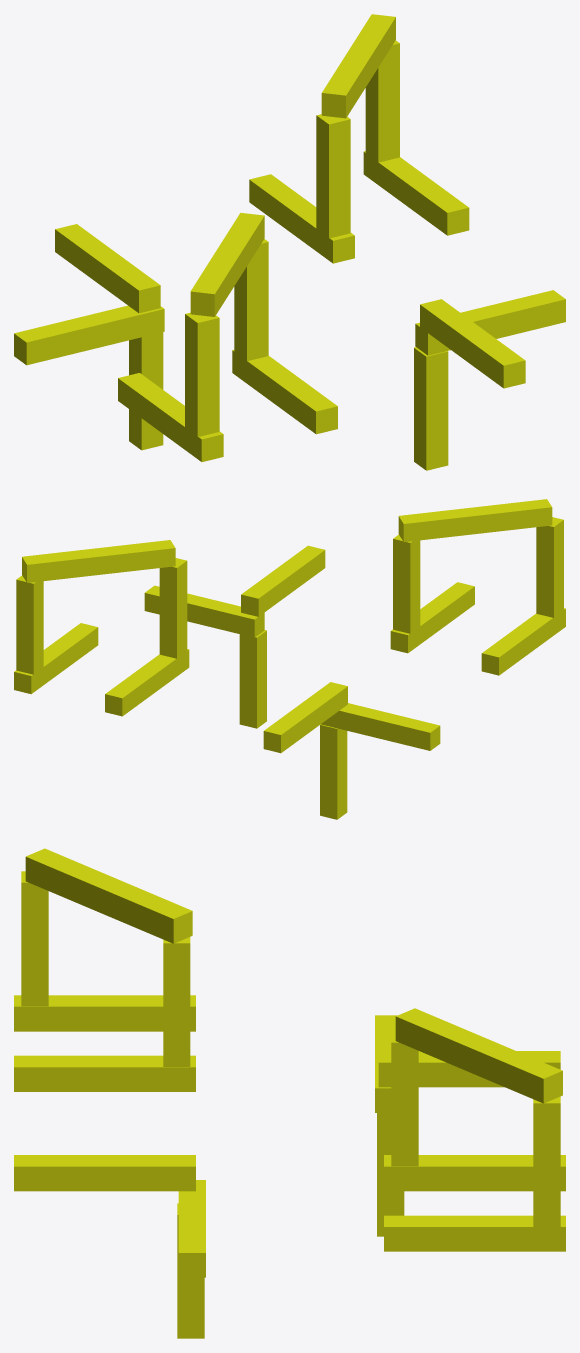
File: Dynamic_20kg_0_5friction.fbx
3 views of the same model, one above another, from view 1: azimuth 30°, elevation 25°; view 2: azimuth 150°, elevation 25°; view 3: azimuth 270°, elevation 25° (orthographic). The views are drawn at different scales.
Visible parts, largest first — view 1: D1DynamicBox43, D1DynamicBox34, D1DynamicBox42, D1DynamicBox38, D1DynamicBox32, D1DynamicBox29, D1DynamicBox40, D1DynamicBox35, D1DynamicBox31, D1DynamicBox37, D1DynamicBox41, D1DynamicBox36 (+4 smaller); view 2: D1DynamicBox31, D1DynamicBox37, D1DynamicBox43, D1DynamicBox34, D1DynamicBox42, D1DynamicBox38, D1DynamicBox32, D1DynamicBox39, D1DynamicBox33, D1DynamicBox29, D1DynamicBox44, D1DynamicBox41 (+4 smaller); view 3: D1DynamicBox34, D1DynamicBox37, D1DynamicBox31, D1DynamicBox35, D1DynamicBox40, D1DynamicBox36, D1DynamicBox41, D1DynamicBox39, D1DynamicBox33, D1DynamicBox38, D1DynamicBox32, D1DynamicBox42 (+4 smaller).
Part boxes in pixels (x1,y1,x2,y2): D1DynamicBox43: (14, 305, 164, 365); D1DynamicBox34: (420, 299, 525, 388); D1DynamicBox42: (55, 224, 160, 313); D1DynamicBox38: (316, 114, 350, 238); D1DynamicBox32: (185, 312, 219, 436); D1DynamicBox29: (414, 347, 448, 470); D1DynamicBox40: (363, 151, 469, 235); D1DynamicBox35: (232, 350, 337, 434); D1DynamicBox31: (190, 212, 264, 316); D1DynamicBox37: (321, 14, 395, 118); D1DynamicBox41: (249, 174, 354, 263); D1DynamicBox36: (118, 373, 223, 461); D1DynamicBox31: (398, 499, 552, 542); D1DynamicBox37: (22, 540, 175, 582); D1DynamicBox43: (321, 703, 440, 750); D1DynamicBox34: (241, 545, 325, 616); D1DynamicBox42: (263, 682, 347, 753); D1DynamicBox38: (159, 558, 187, 658); D1DynamicBox32: (536, 517, 563, 617); D1DynamicBox39: (16, 575, 43, 674); D1DynamicBox33: (393, 534, 420, 633); D1DynamicBox29: (239, 630, 266, 728); D1DynamicBox44: (320, 724, 347, 819); D1DynamicBox41: (105, 649, 189, 716); D1DynamicBox34: (14, 1155, 195, 1191); D1DynamicBox37: (395, 1008, 562, 1103); D1DynamicBox31: (25, 848, 192, 943); D1DynamicBox35: (14, 1055, 195, 1091); D1DynamicBox40: (384, 1215, 565, 1251); D1DynamicBox36: (14, 995, 195, 1031); D1DynamicBox41: (384, 1155, 565, 1191); D1DynamicBox39: (533, 1096, 560, 1226); D1DynamicBox33: (163, 937, 190, 1066); D1DynamicBox38: (391, 1031, 418, 1166); D1DynamicBox32: (21, 871, 48, 1006); D1DynamicBox42: (378, 1051, 560, 1087).
Size of what is drawn, in the model's own units: 61.81 by 39 by 60.7.
